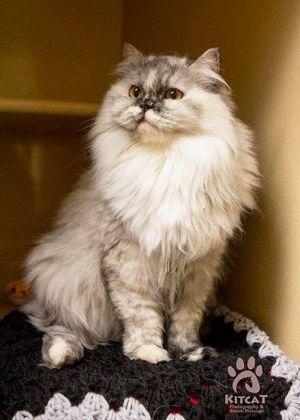persian: (83, 24, 245, 186)
